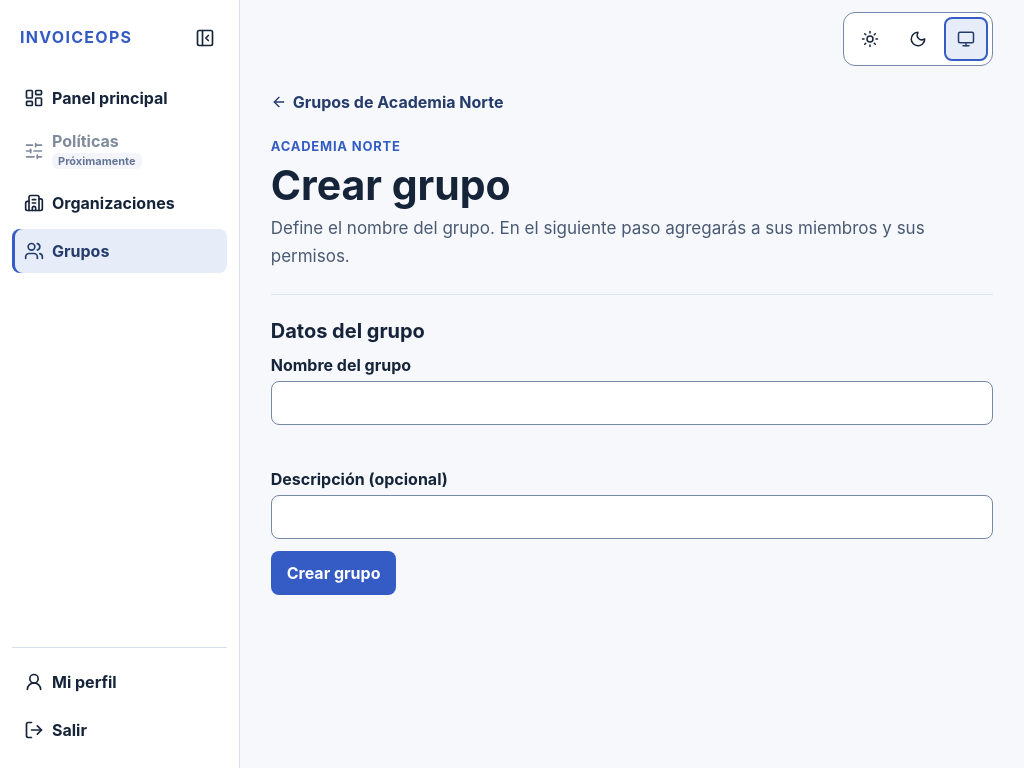
Test: GroupForm (create) › creates the group with the trimmed name and description, then goes on to add its members
In the field labelled "Nombre del grupo": coordinates (632, 403) 271,381 -> 993,425, type "  Cobranza "
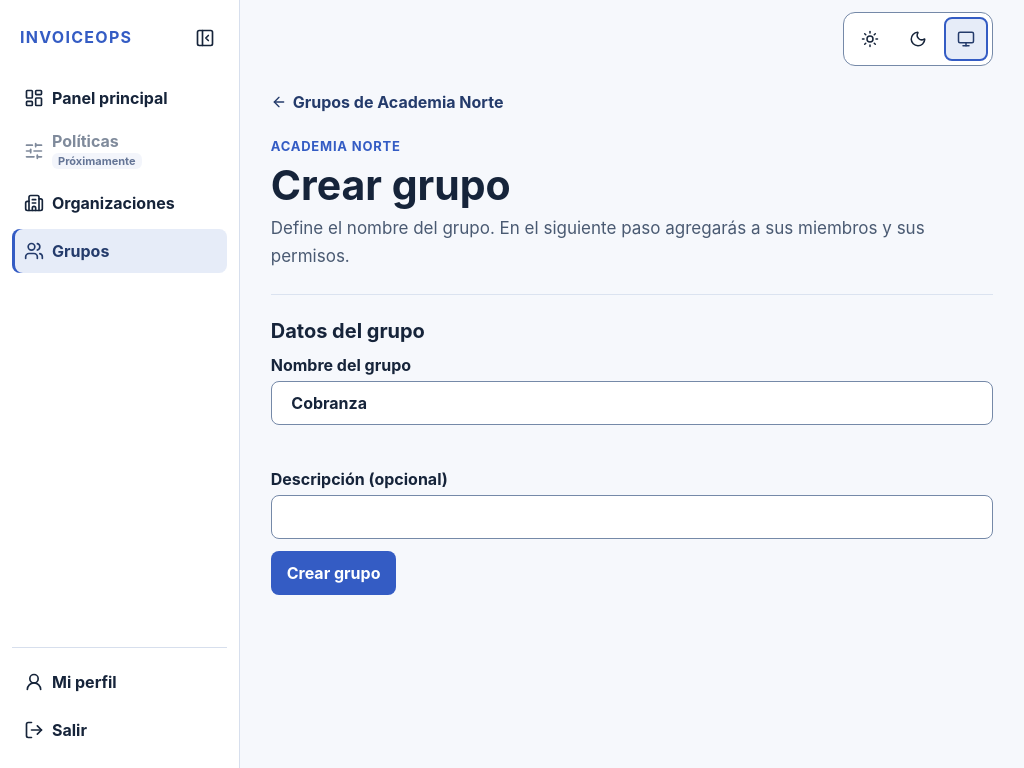
In the field labelled "Descripción (opcional)": coordinates (632, 517) 271,495 -> 993,539, type " Equipo de cobranza "
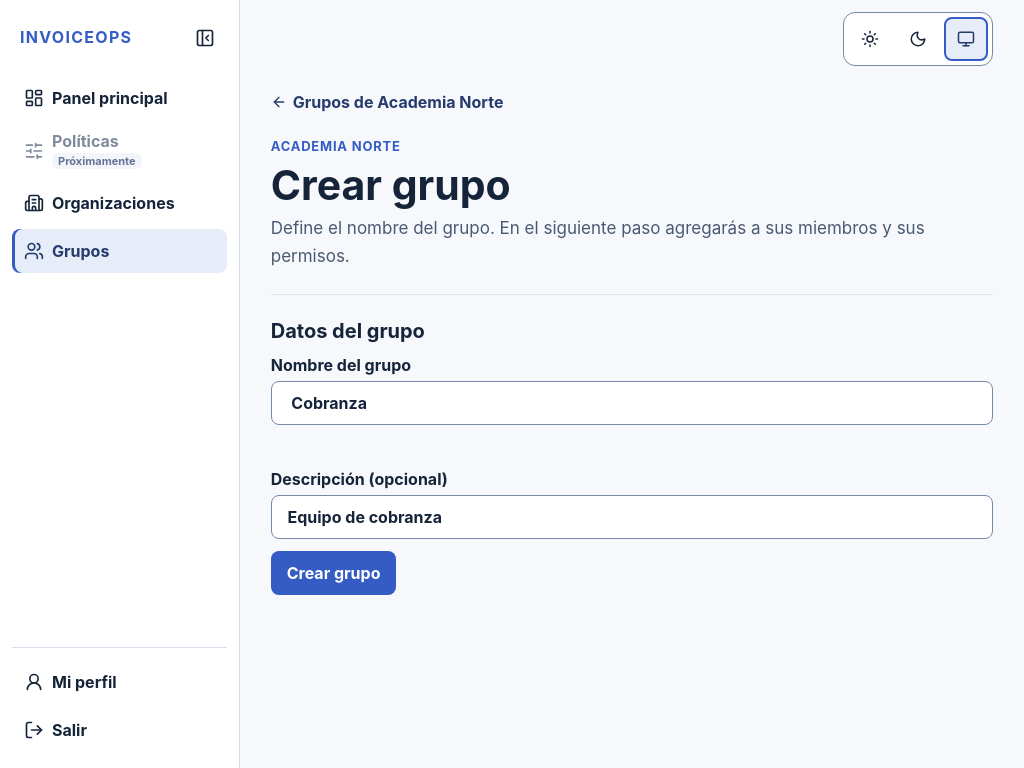
Click the button "Crear grupo": coordinates (334, 573) 271,551 -> 396,595
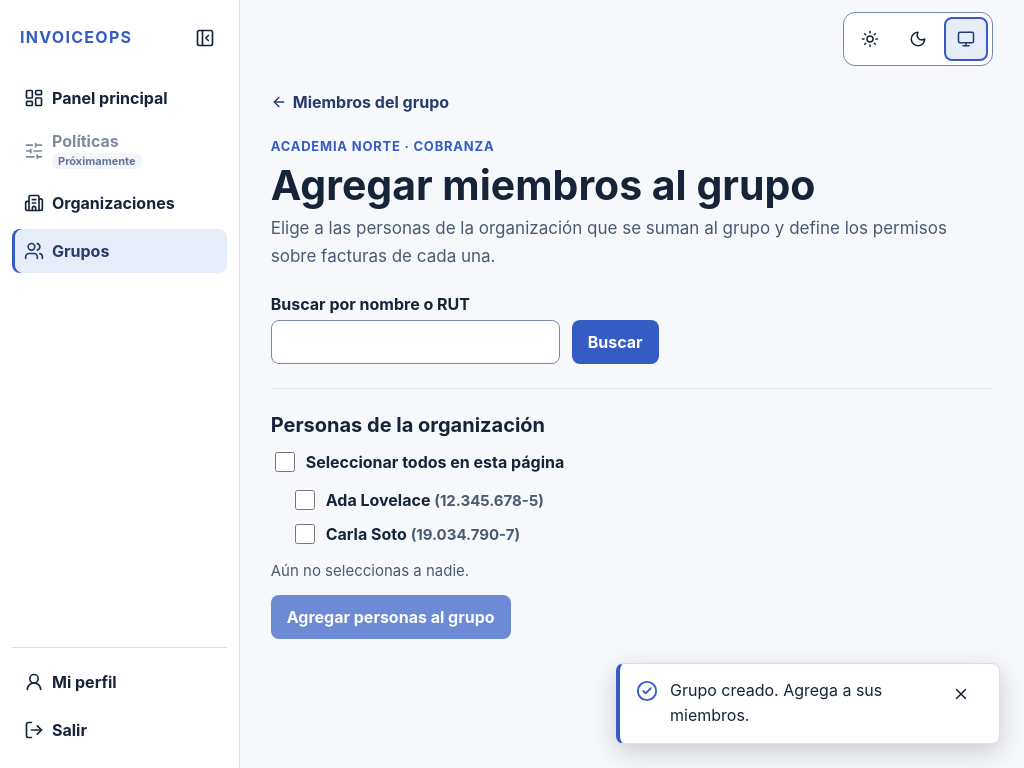
Now the text "Grupo creado. Agrega a sus miembros." is shown, box 670,680 -> 882,725
